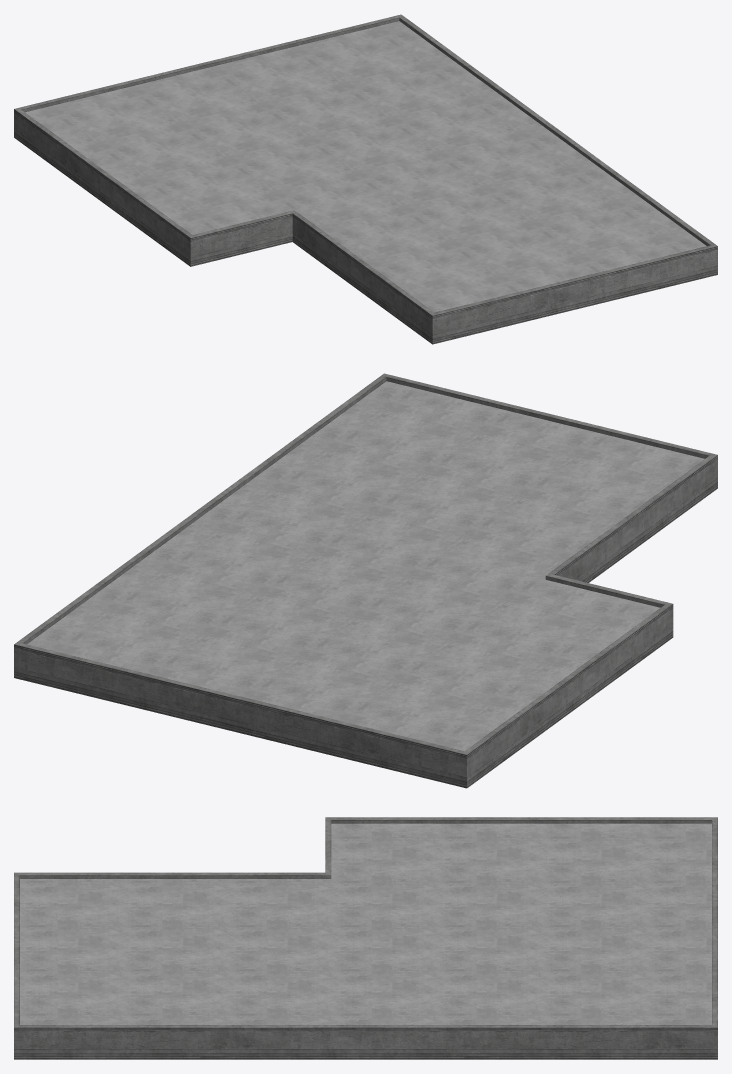
Rendered from HH_Sector_Canopy.fbx.
3 views of the same model, one above another, from view 1: azimuth 30°, elevation 25°; view 2: azimuth 150°, elevation 25°; view 3: azimuth 270°, elevation 25° (orthographic). The views are drawn at different scales.
Parts seen in each view (by area): view 1: HH_Sector_Canopy; view 2: HH_Sector_Canopy; view 3: HH_Sector_Canopy.
Boxes of the visible parts, <box> form: HH_Sector_Canopy: <box>14,14,717,344</box>; HH_Sector_Canopy: <box>14,373,717,788</box>; HH_Sector_Canopy: <box>14,817,717,1059</box>.
Bounding box in the file's own units: 1900 × 134 × 2690.
